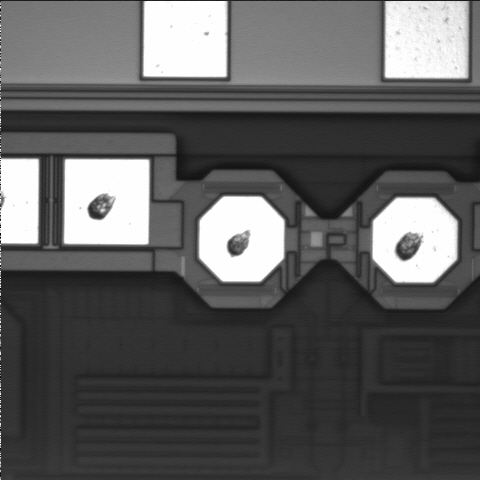pad: (64, 159, 149, 244), (199, 197, 284, 282), (373, 198, 457, 282)
